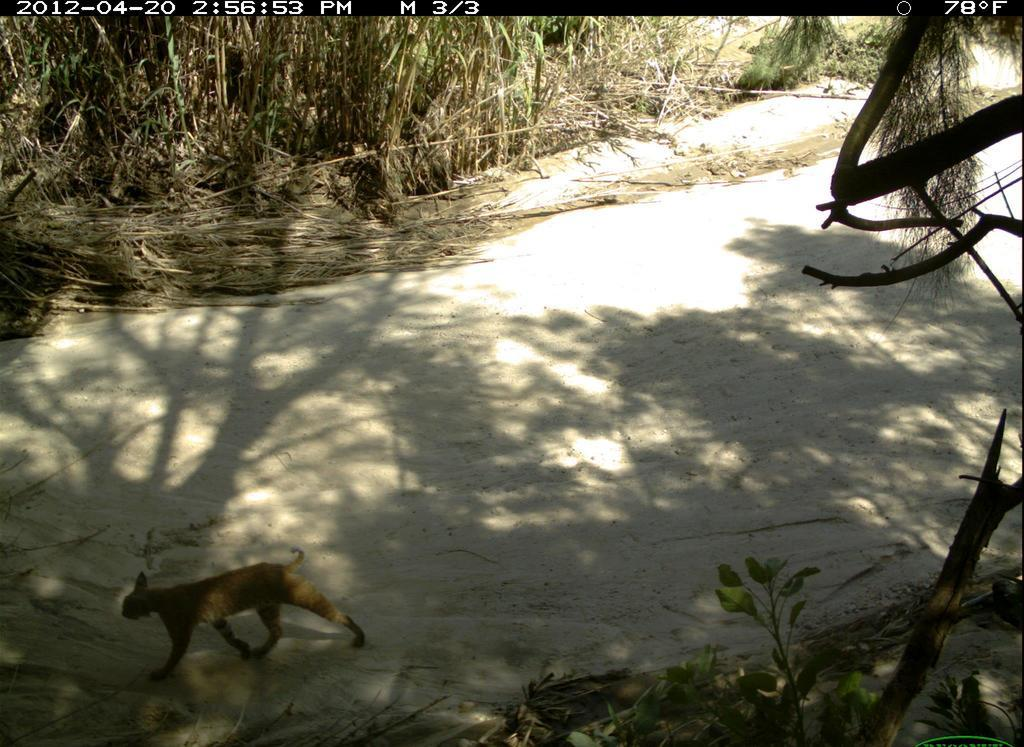bobcat: (111, 545, 379, 689)
